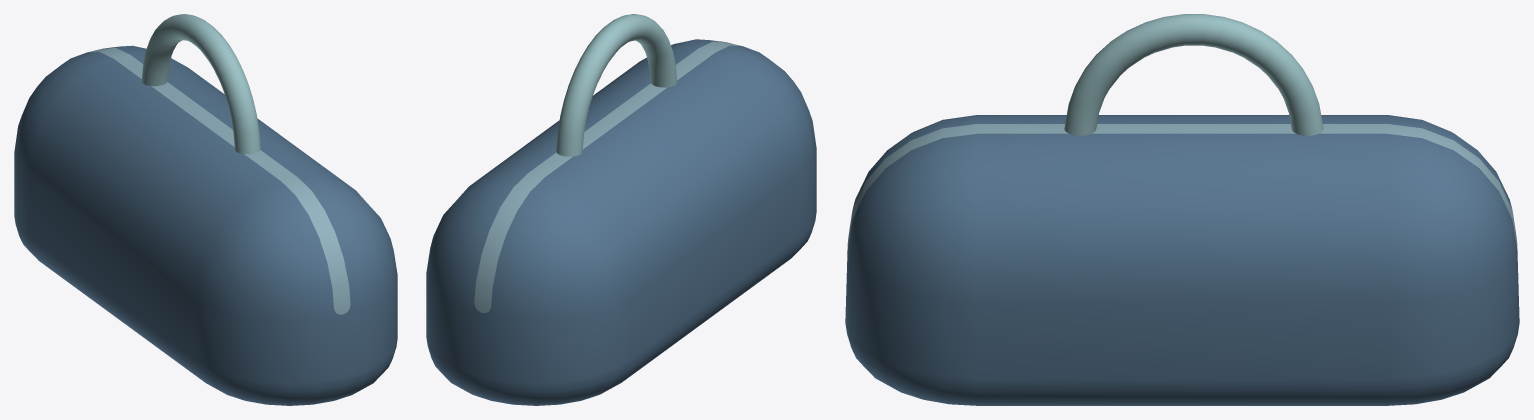
Rendered from Bag.fbx.
3 views of the same model, side by side, from view 1: azimuth 30°, elevation 25°; view 2: azimuth 150°, elevation 25°; view 3: azimuth 270°, elevation 25° (orthographic). The views are drawn at different scales.
Visible parts, largest first — view 1: Bag; view 2: Bag; view 3: Bag.
Part boxes in pixels (left/top/right/bottom): Bag: left=14, top=14, right=397, bottom=405; Bag: left=426, top=14, right=816, bottom=405; Bag: left=845, top=14, right=1519, bottom=405.
Bounding box in the file's own units: 0.5598 × 0.8204 × 1.43.
